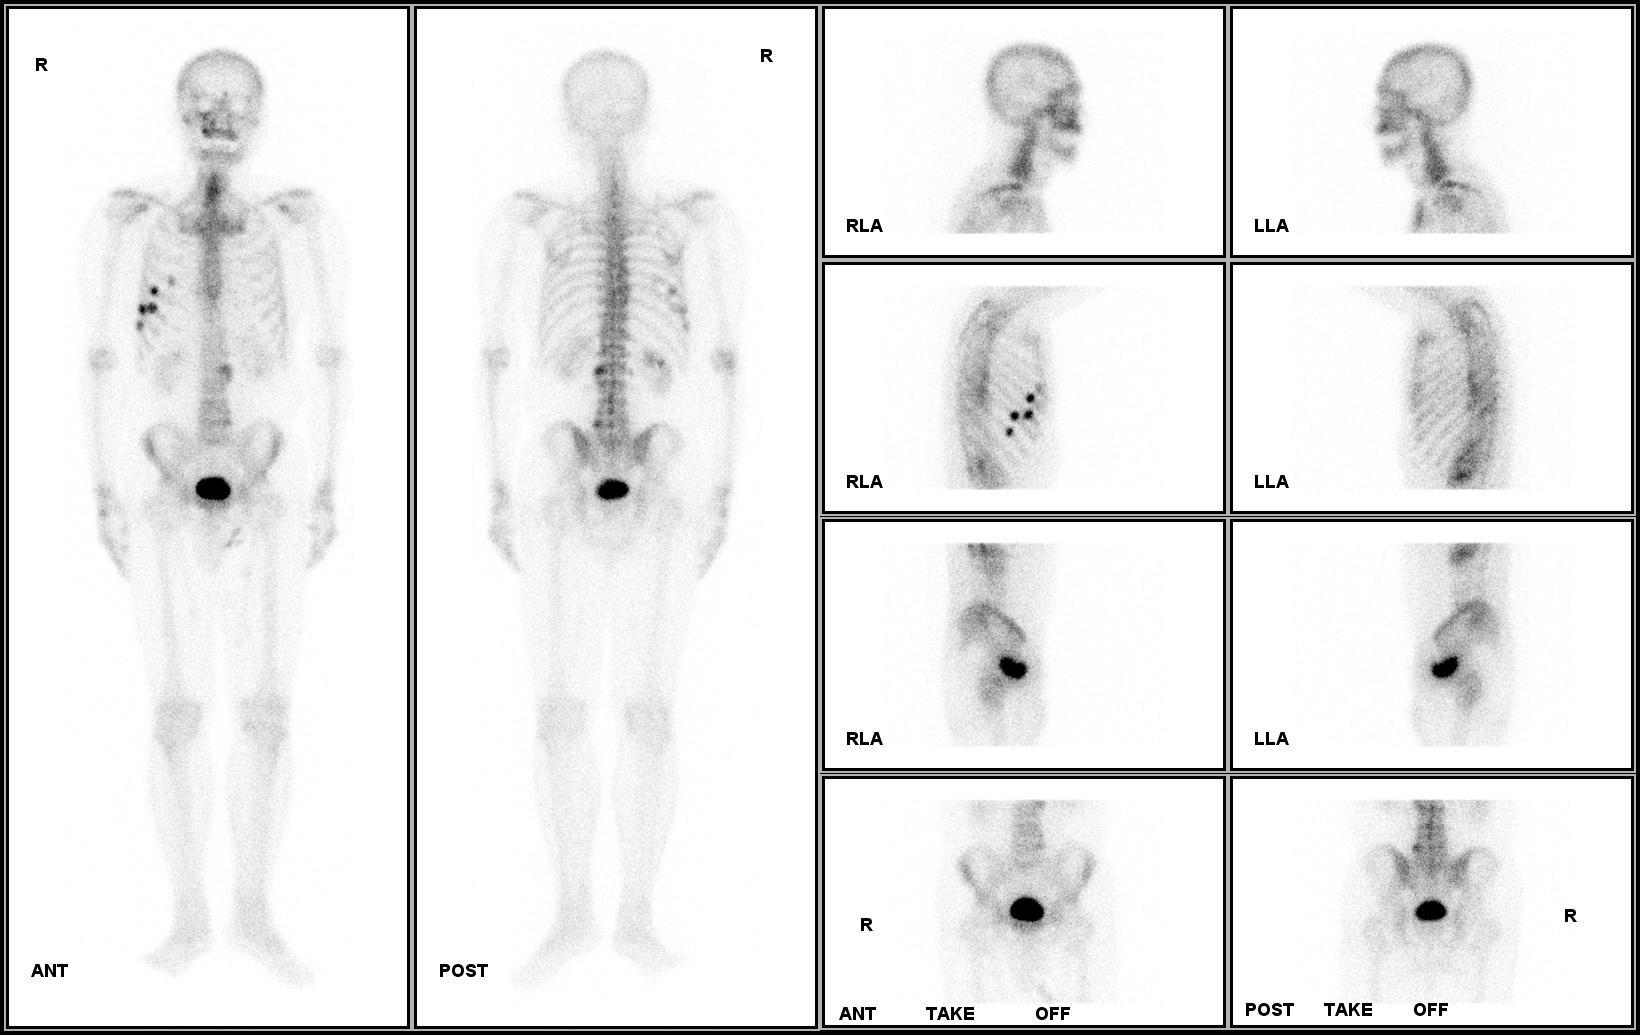person: (6, 9, 816, 1026)
